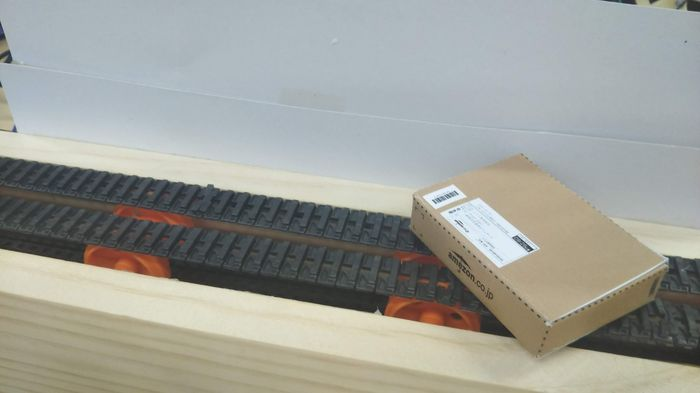box2: (408, 151, 668, 356)
